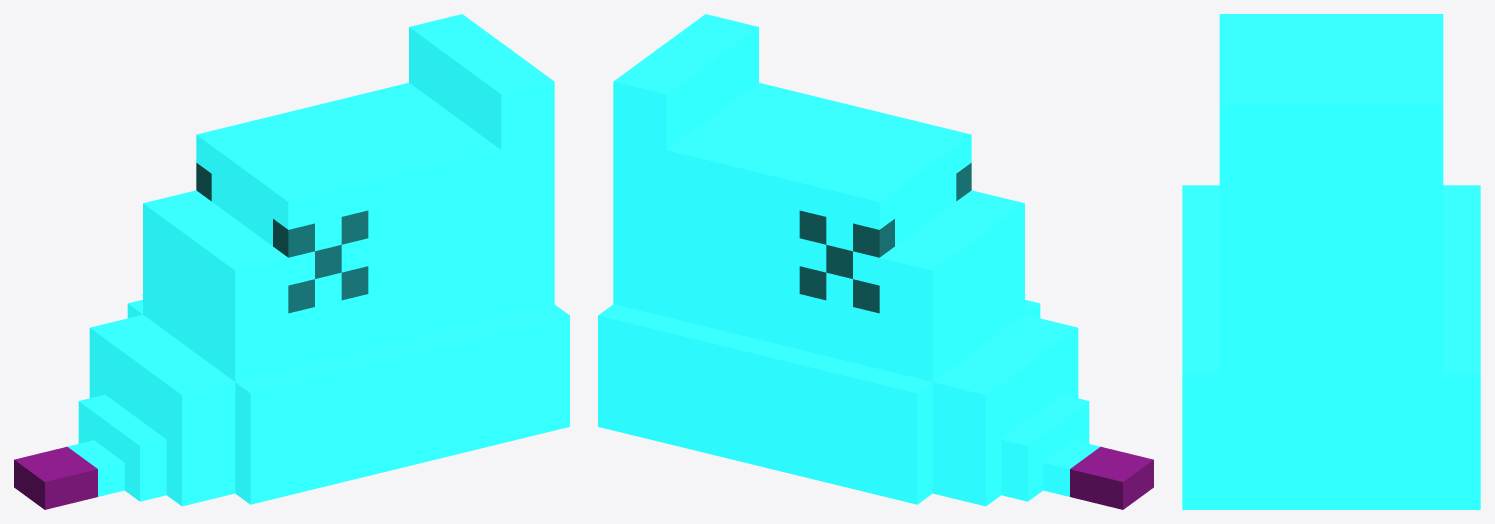
The model's file is rat-head-joined.fbx.
The picture shows the model from 3 angles, left to right: view 1: azimuth 30°, elevation 25°; view 2: azimuth 150°, elevation 25°; view 3: azimuth 270°, elevation 25°; orthographic projection. The views are drawn at different scales.
Parts seen in each view (by area): view 1: head; view 2: head; view 3: head.
Part boxes in pixels (box(x1,y1,x2,y2)): head: box(14, 14, 569, 509); head: box(598, 14, 1153, 509); head: box(1182, 14, 1480, 509).
Size of the model in its own units: 122 by 81.29 by 54.19.
